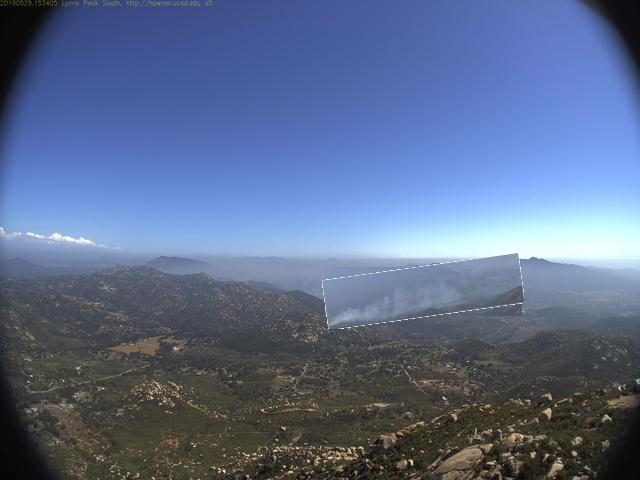smoke: (325, 261, 525, 325)
